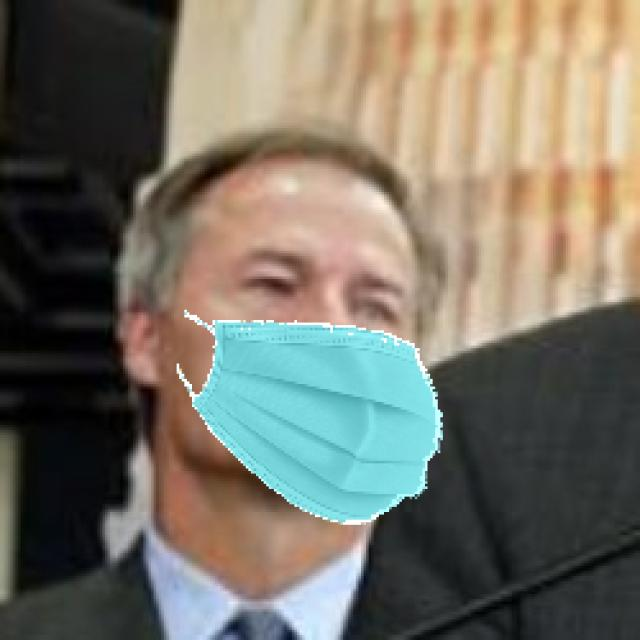mask: (146, 253, 440, 521)
